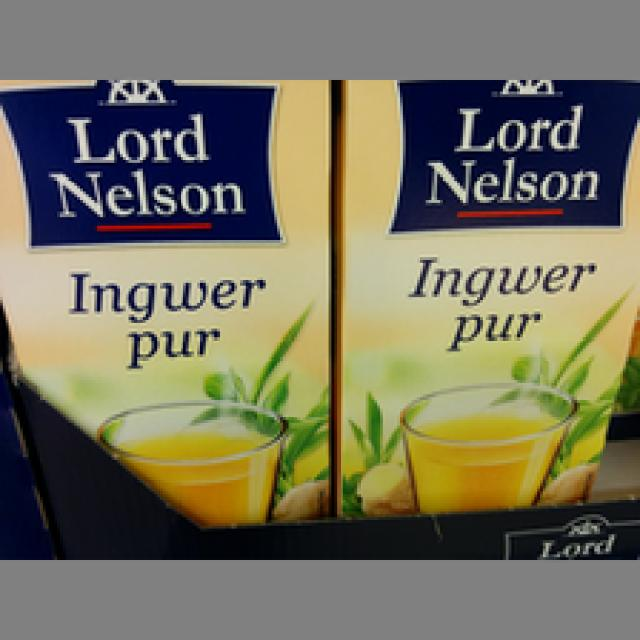groceries: (0, 77, 331, 520), (329, 77, 637, 514)
